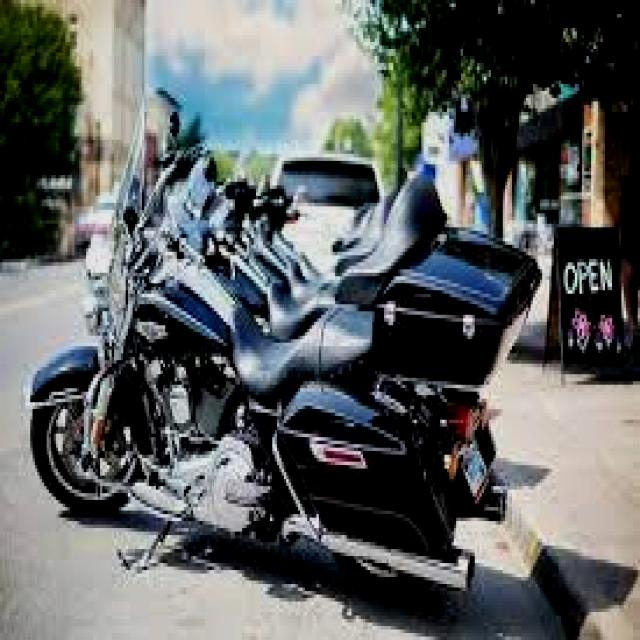MOTORCYCLE: (31, 165, 507, 624)
